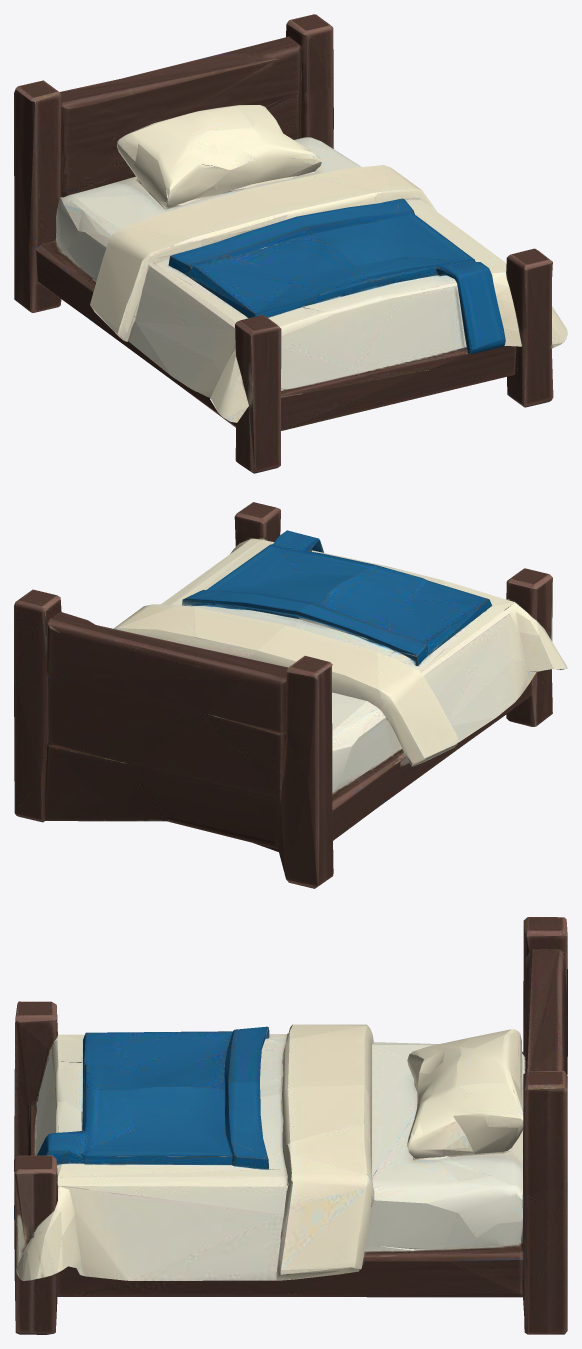
The model's file is bed.glb.
3 renders of one model, top to bottom at view 1: azimuth 30°, elevation 25°; view 2: azimuth 150°, elevation 25°; view 3: azimuth 270°, elevation 25°, orthographic. The views are drawn at different scales.
Visible parts, largest first — view 1: bed; view 2: bed; view 3: bed.
Part boxes in pixels (x1,y1,x2,y2): bed: (14, 14, 567, 473); bed: (14, 502, 567, 888); bed: (14, 917, 567, 1334).
Size of the model in its own units: 1.85 by 1.1 by 2.21.
1 material, 1 textured.
